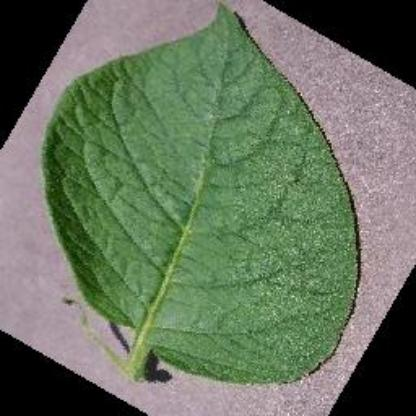Healthy-plant: (38, 3, 364, 387)
